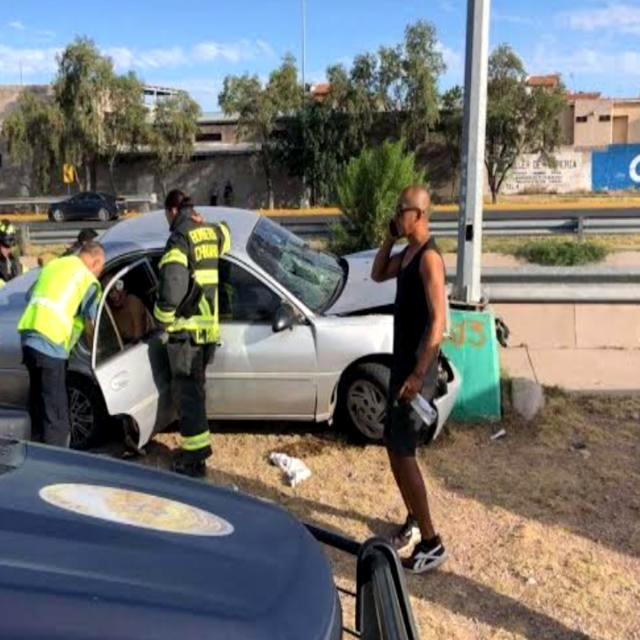Broken Pole: (443, 3, 508, 429)
